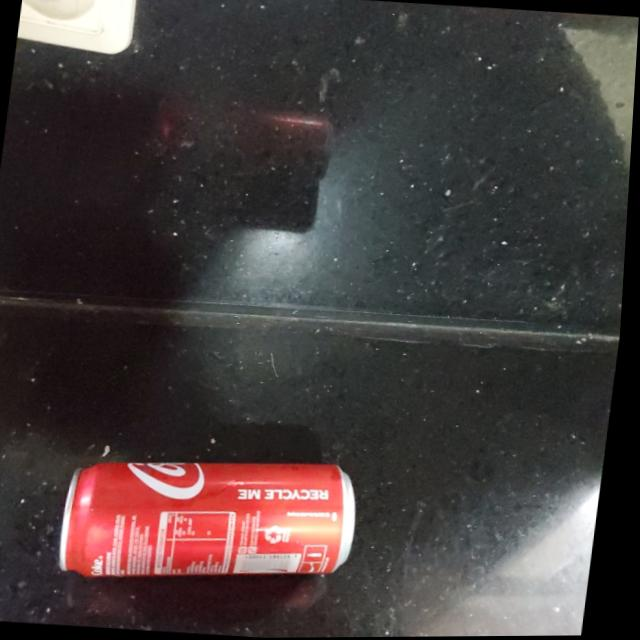coke: (69, 444, 371, 588)
